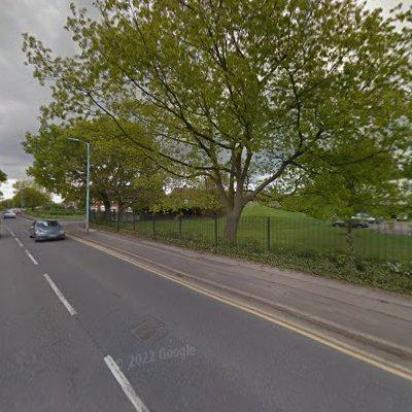moving-car: (28, 219, 66, 243), (4, 208, 16, 220)
stationary-car-offstreet: (332, 212, 368, 230), (350, 211, 378, 223)
